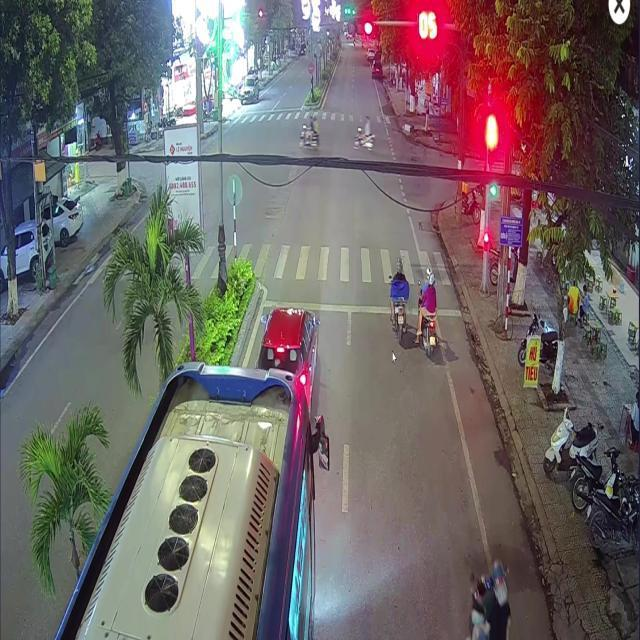car: (55, 361, 329, 638), (256, 308, 318, 408)
motobike: (468, 560, 509, 638), (417, 306, 437, 355), (389, 297, 406, 341)
red_light: (345, 17, 372, 35), (486, 133, 495, 167), (483, 232, 487, 251)
stop_line: (263, 299, 463, 316)
